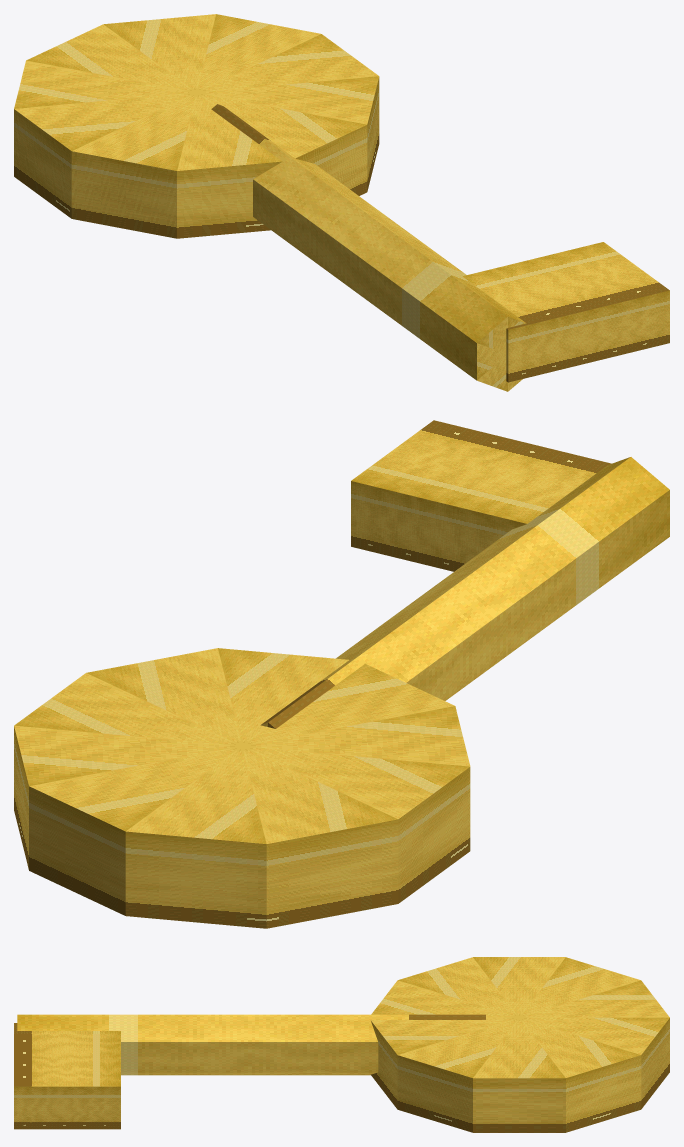
File: chave_nivel_3.glb
3 views of the same model, one above another, from view 1: azimuth 30°, elevation 25°; view 2: azimuth 150°, elevation 25°; view 3: azimuth 270°, elevation 25° (orthographic). The views are drawn at different scales.
Parts seen in each view (by area): view 1: chave_nivel_3; view 2: chave_nivel_3; view 3: chave_nivel_3.
Part boxes in pixels (x1,y1,x2,y2): chave_nivel_3: [14, 14, 669, 391]; chave_nivel_3: [14, 420, 669, 928]; chave_nivel_3: [14, 957, 669, 1132].
Size of the model in its own units: 0.0873 by 0.02 by 0.196.
Materials: 1 (1 with a texture image).
